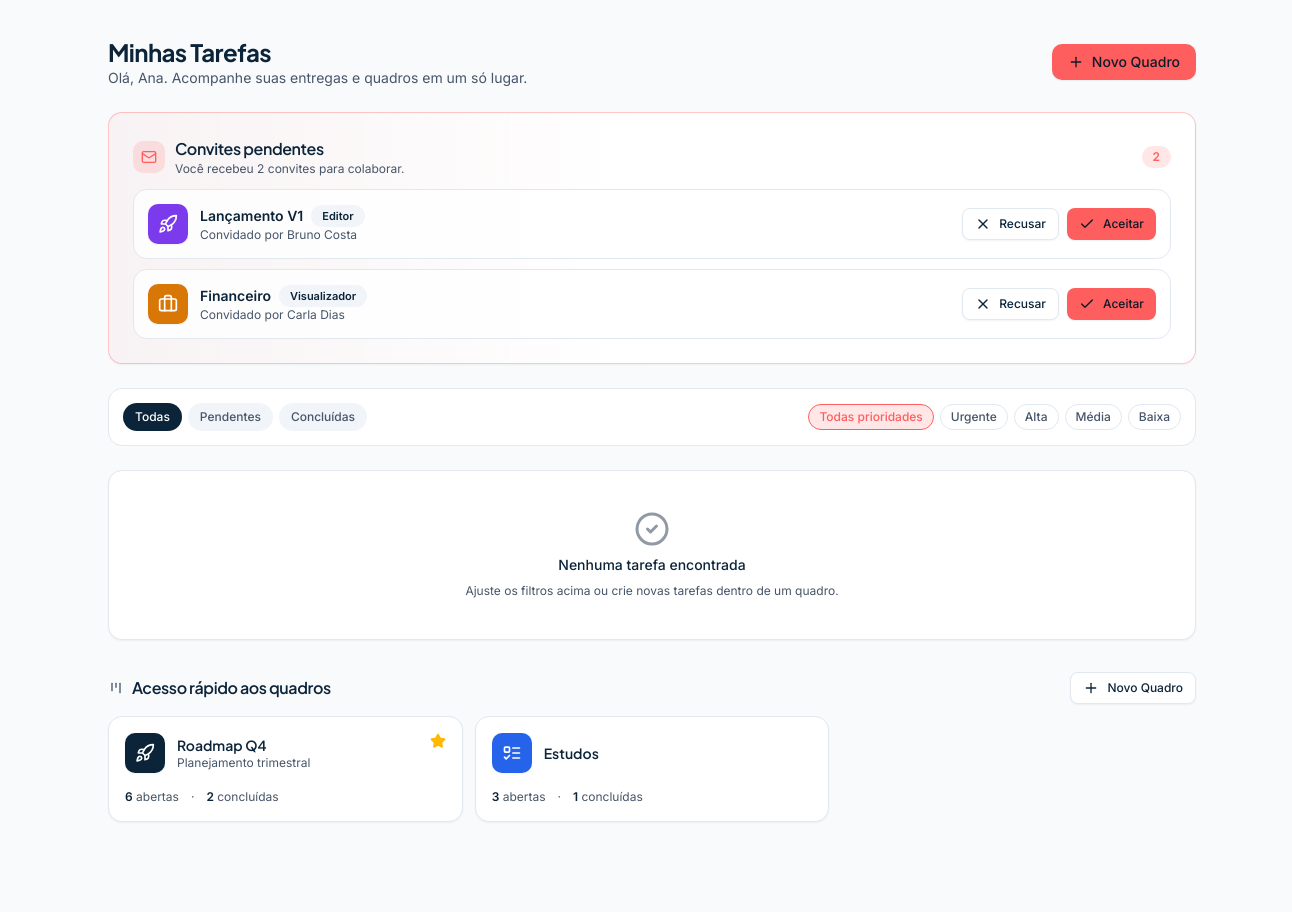
Scenario: MyTasksPage › acceptsInviteAndNavigatesToBoardAndDeclinesInviteUpdatingPendingInvites
This screenshot has width=1292, height=912.
expect the text "Lançamento V1" is shown: met, box [200, 206, 303, 226]
expect the text "Financeiro" is shown: met, box [200, 286, 271, 306]
Click the button "Recusar" in the row of "Visualizador" at (1011,304), box [962, 288, 1059, 320]
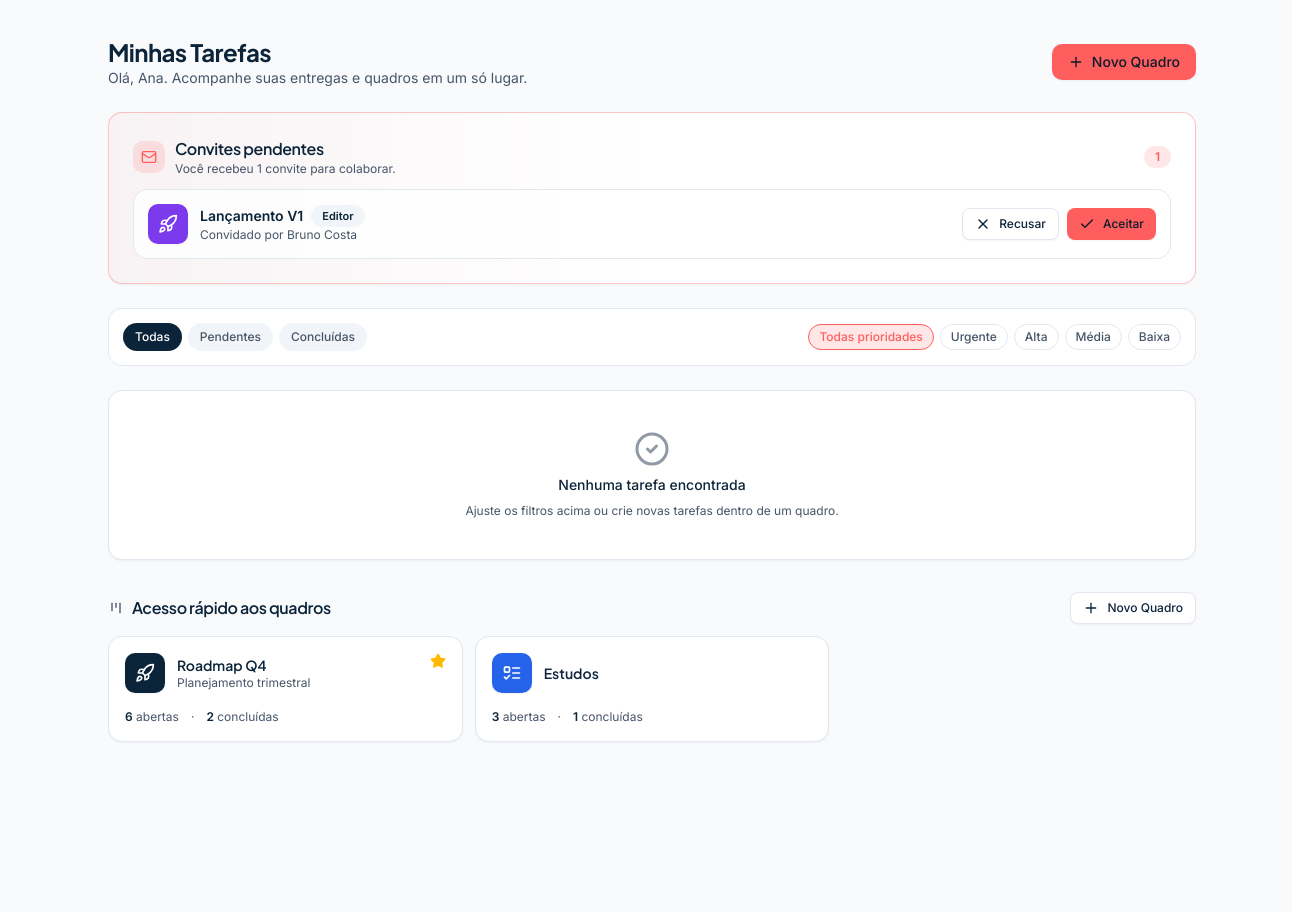
expect the text "Financeiro" is gone: met
Click the button "Aceitar" at (1112,224), box [1067, 208, 1156, 240]
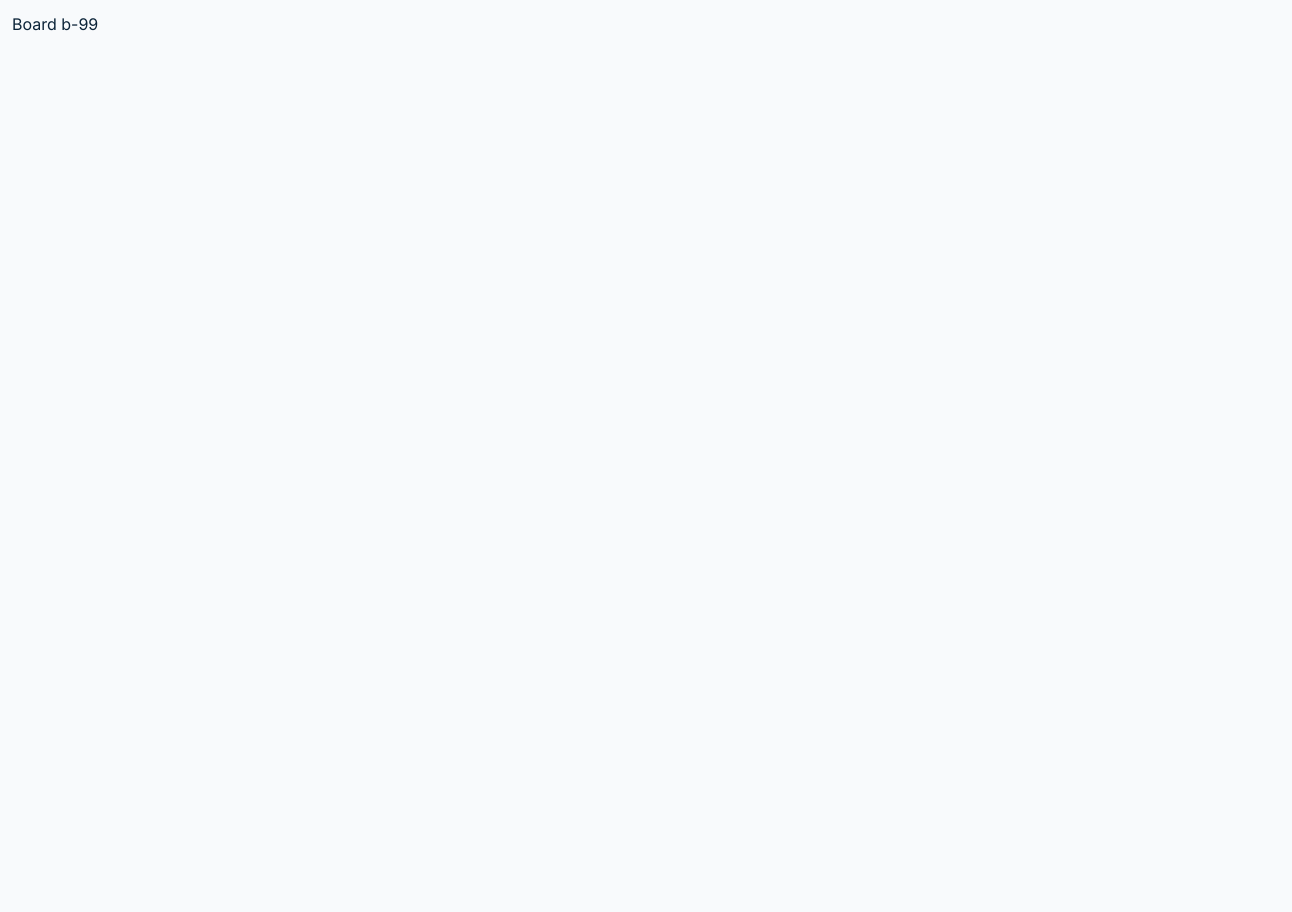
expect the text with test id "board-destination" reads "Board b-99": met, box [12, 14, 98, 34]
